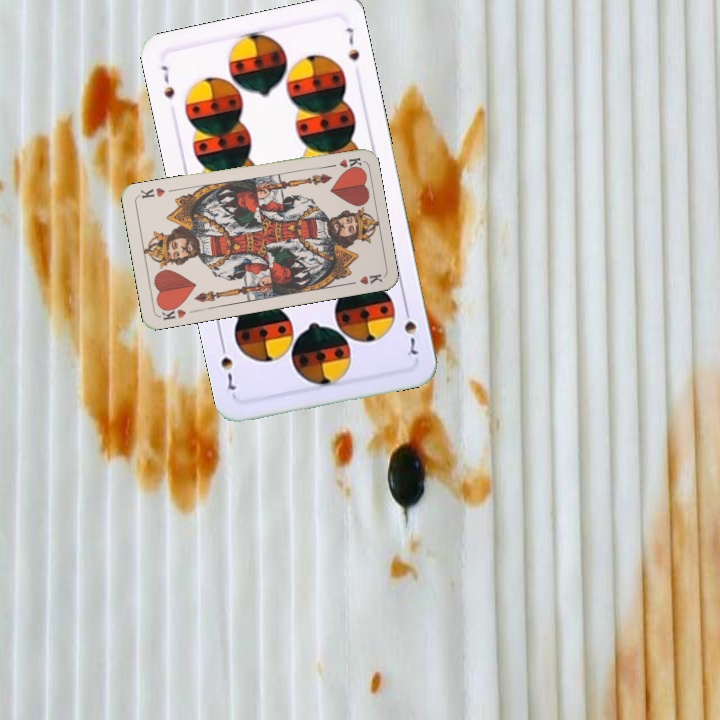HK: (157, 301, 197, 323), (322, 153, 363, 170)
S7: (400, 302, 420, 360), (157, 61, 177, 101)
